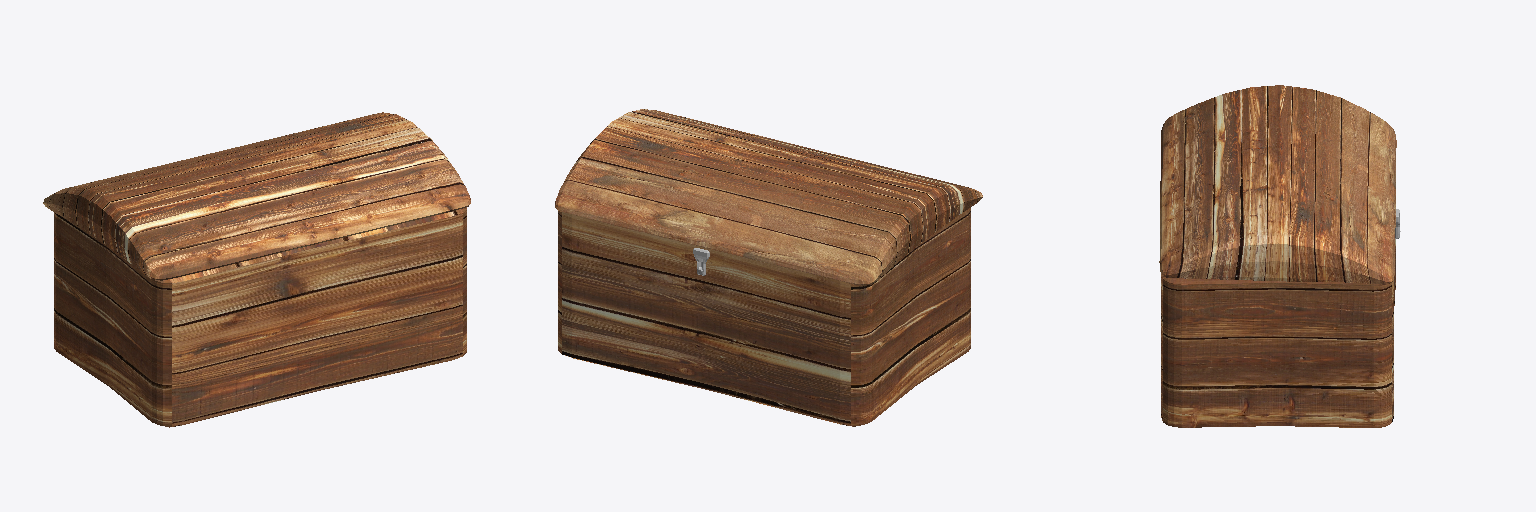
3 views of the same model, side by side, from view 1: azimuth 30°, elevation 25°; view 2: azimuth 150°, elevation 25°; view 3: azimuth 270°, elevation 25° (orthographic).
Visible parts, largest first — view 1: chest1_Cube, door_Cube.001; view 2: chest1_Cube, door_Cube.001; view 3: door_Cube.001, chest1_Cube.
Part boxes in pixels (x1,y1,x2,y2): chest1_Cube: (54, 207, 466, 427); door_Cube.001: (43, 112, 470, 280); chest1_Cube: (558, 208, 970, 426); door_Cube.001: (555, 109, 982, 285); door_Cube.001: (1159, 85, 1396, 284); chest1_Cube: (1161, 239, 1395, 427).
Bounding box in the file's own units: 3.36 × 1.91 × 2.17.
Materials: 3 (1 with a texture image).